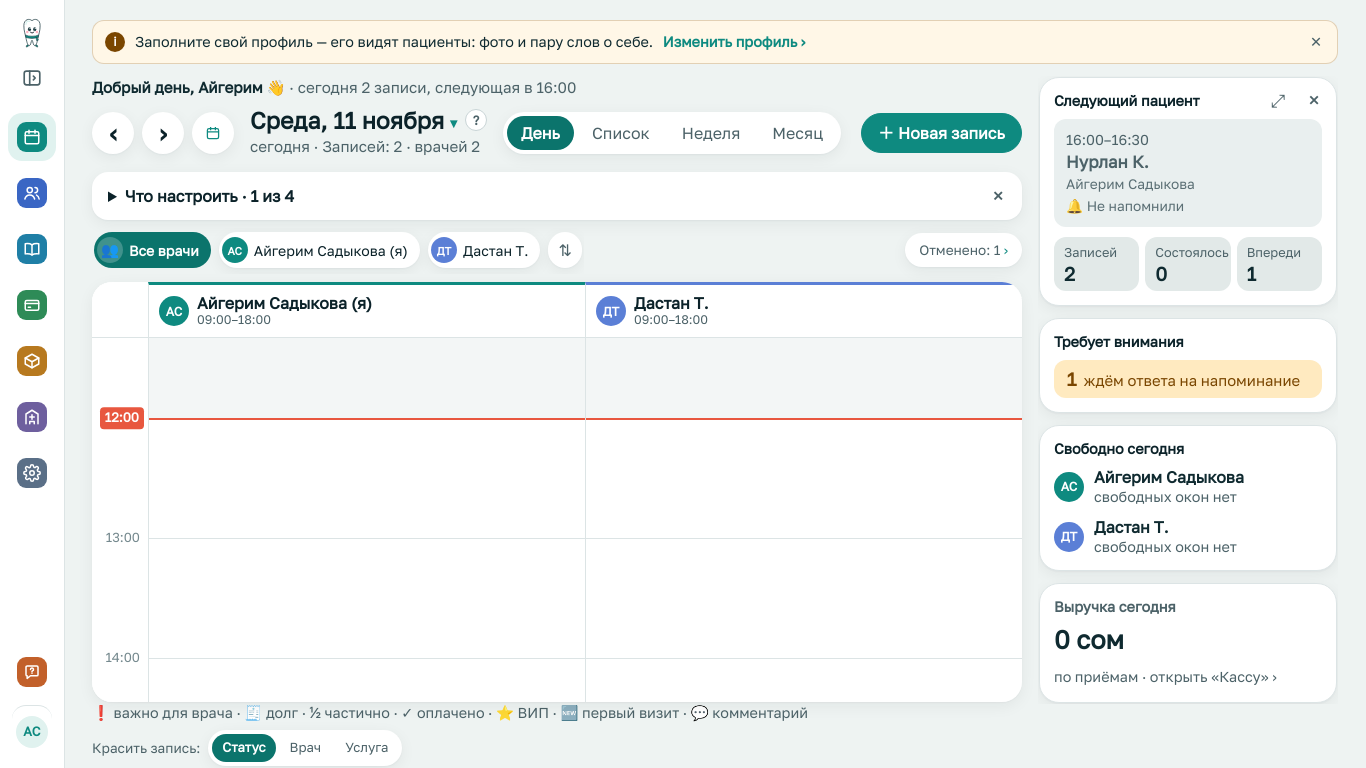
Test: отменил и записался снова — у строки «↻ записан снова · 16:00», отменённая запись остаётся историей
This screenshot has width=1366, height=768.
(page scrolled)
Click the button "Отменено: 1 ›": [964, 250] box [905,233,1022,267]
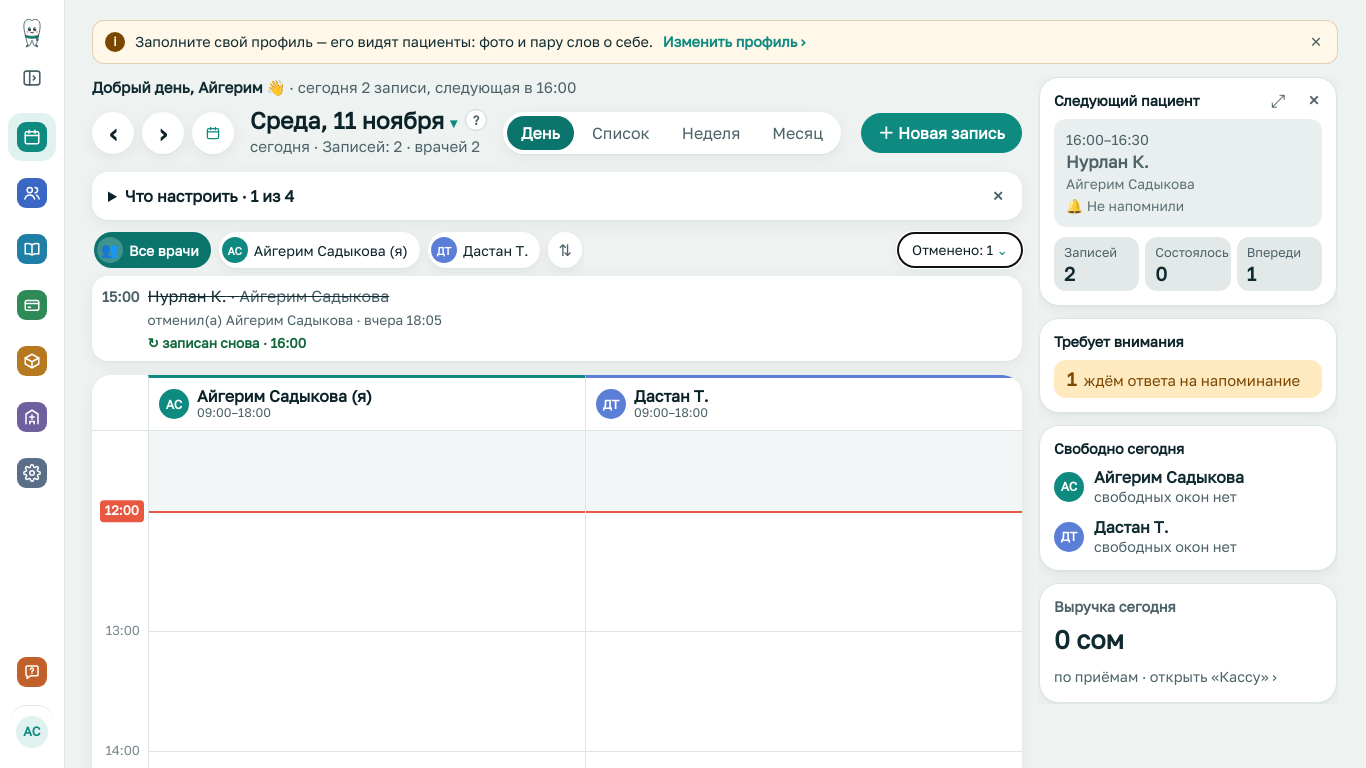
Expected: the text "↻ записан снова · 16:00" is shown, [92,276,1022,361]
